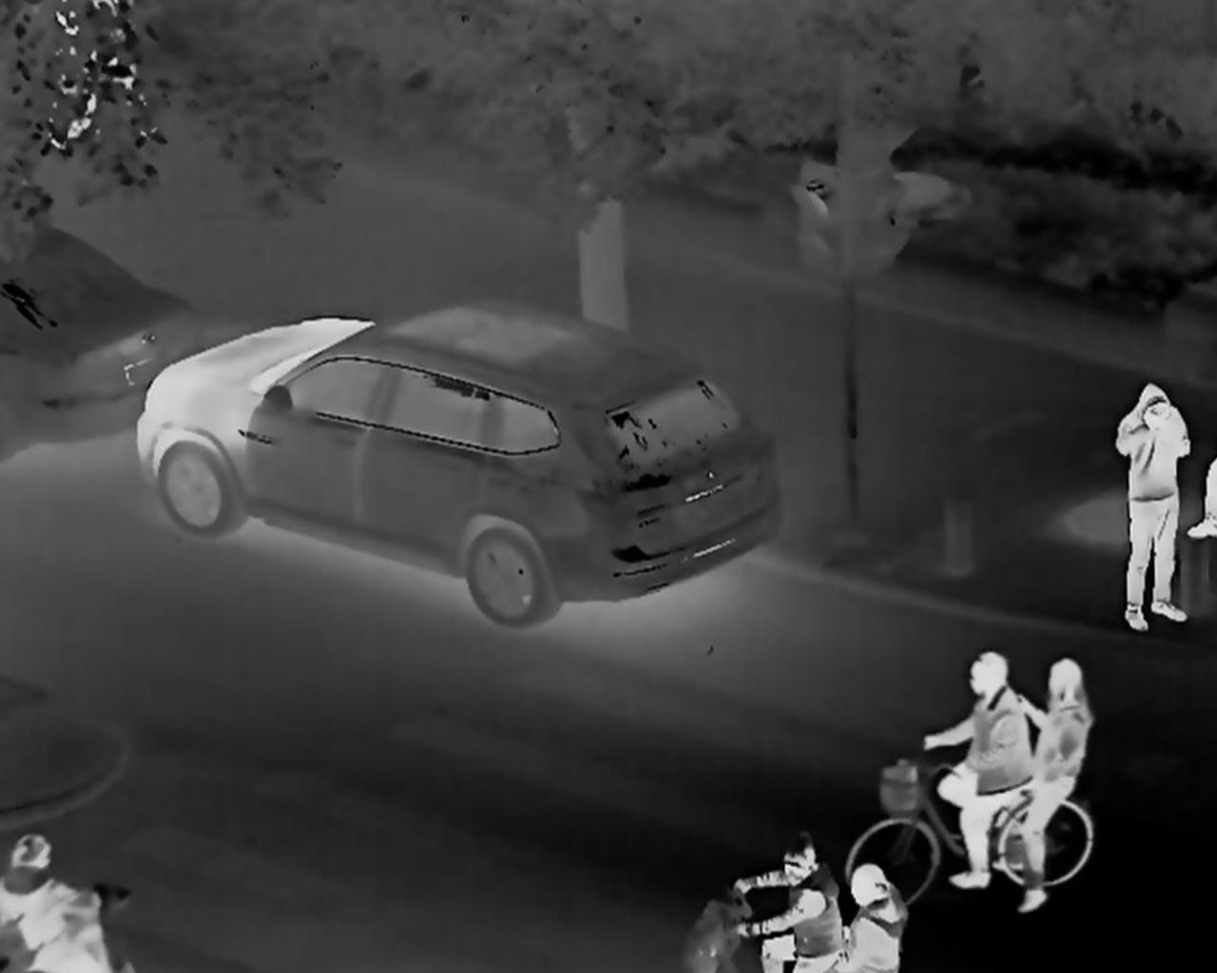person: (919, 645, 1033, 894), (1009, 657, 1095, 917), (1111, 372, 1191, 630), (730, 830, 845, 973), (2, 825, 87, 973), (829, 858, 909, 973)
